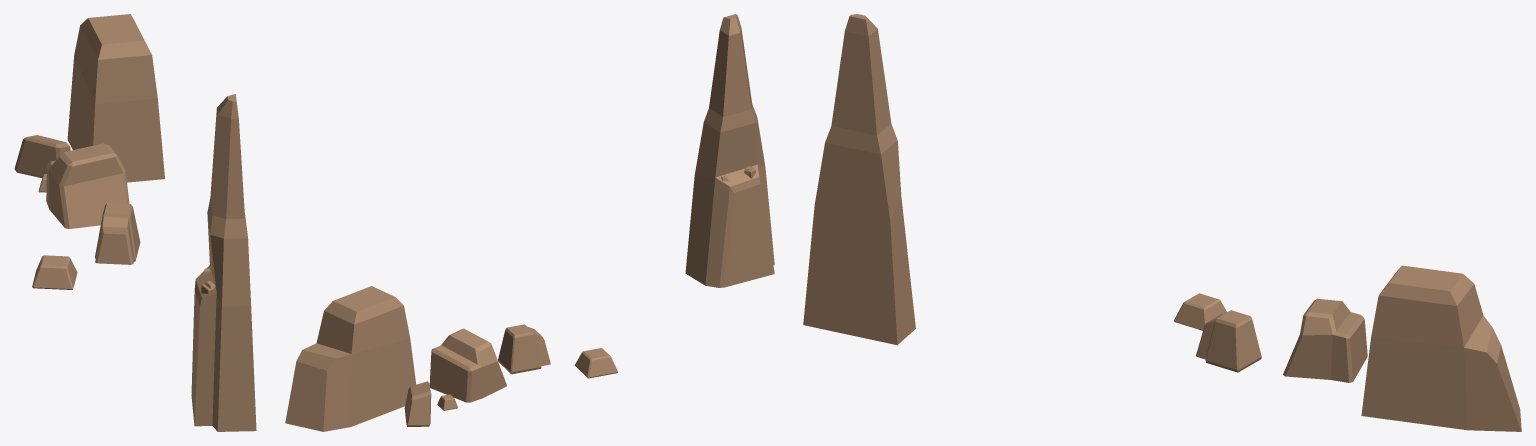
Rendered from small_rock_4.fbx.
3 renders of one model, left to right at view 1: azimuth 30°, elevation 25°; view 2: azimuth 150°, elevation 25°; view 3: azimuth 270°, elevation 25°, orthographic. The views are drawn at different scales.
Parts seen in each view (by area): view 1: 3; view 2: 3; view 3: 3.
Boxes of the visible parts, x1,y1,x2,y2 form: 3: [14, 14, 256, 431]; 3: [285, 14, 774, 431]; 3: [803, 14, 1521, 431].
Bounding box in the file's own units: 0.1957 × 0.2214 × 0.4643.
